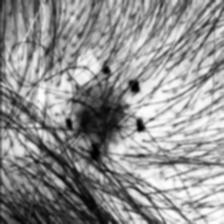Potentially Malignant Skin Tumors: (76, 84, 124, 136)
